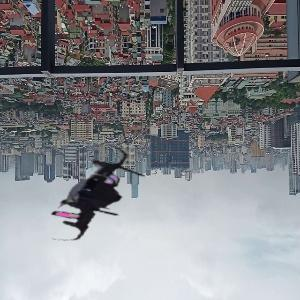drone: (39, 140, 153, 254)
